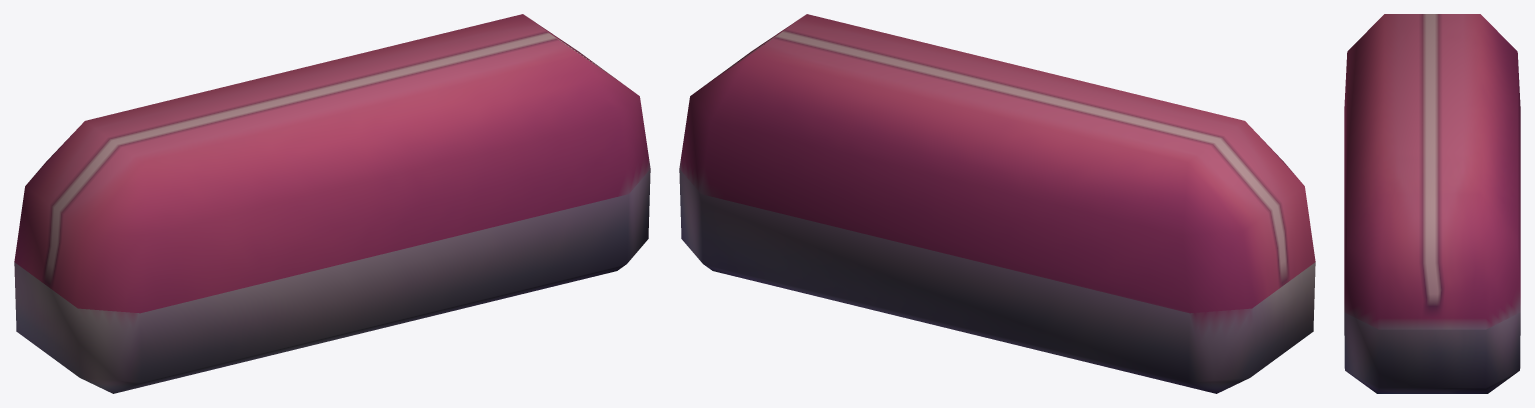
File: pencilCase_typeA1_eve.FBX
3 views of the same model, side by side, from view 1: azimuth 30°, elevation 25°; view 2: azimuth 150°, elevation 25°; view 3: azimuth 270°, elevation 25° (orthographic). The views are drawn at different scales.
Visible parts, largest first — view 1: PencilCaseA1_eve; view 2: PencilCaseA1_eve; view 3: PencilCaseA1_eve.
Boxes of the visible parts, left/top/right/bottom form: PencilCaseA1_eve: left=14, top=14, right=650, bottom=393; PencilCaseA1_eve: left=679, top=14, right=1315, bottom=393; PencilCaseA1_eve: left=1344, top=14, right=1520, bottom=393.
Bounding box in the file's own units: 19.85 × 7.3 × 6.28.
